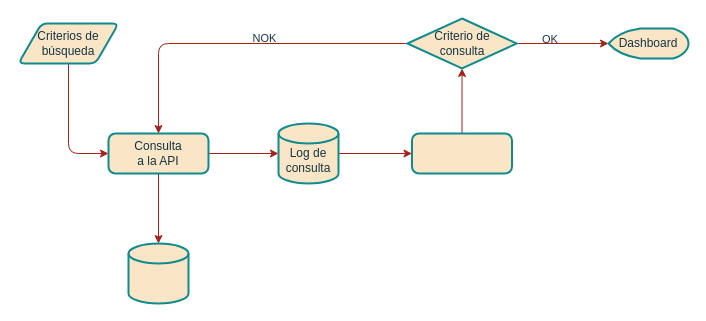
This 706x321 diagram has some shape labels left out. Each missing label, with the box of its shape:
Monitor de consulta: (410, 132, 512, 174)
Salidas de consulta: (127, 242, 189, 304)
